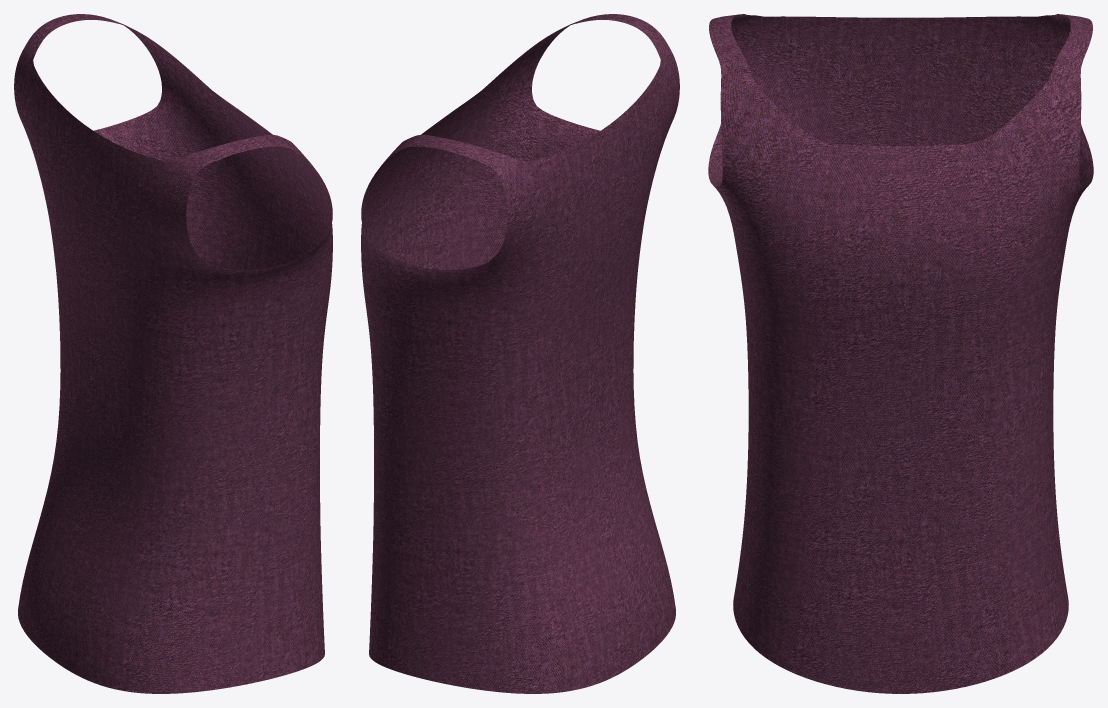
Rendered from top.fbx.
3 views of the same model, side by side, from view 1: azimuth 30°, elevation 25°; view 2: azimuth 150°, elevation 25°; view 3: azimuth 270°, elevation 25° (orthographic). The views are drawn at different scales.
Visible parts, largest first — view 1: BODY.004; view 2: BODY.004; view 3: BODY.004.
Part boxes in pixels (bbox=[...]): BODY.004: bbox=[14, 14, 332, 693]; BODY.004: bbox=[361, 14, 679, 693]; BODY.004: bbox=[708, 14, 1093, 693].
Bounding box in the file's own units: 21.72 × 50.17 × 29.2.
Materials: 1 (1 with a texture image).
